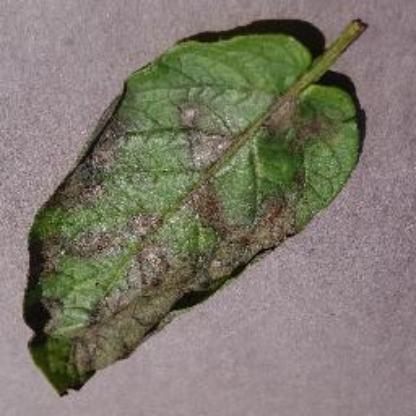Late-Blight: (22, 14, 380, 396)
